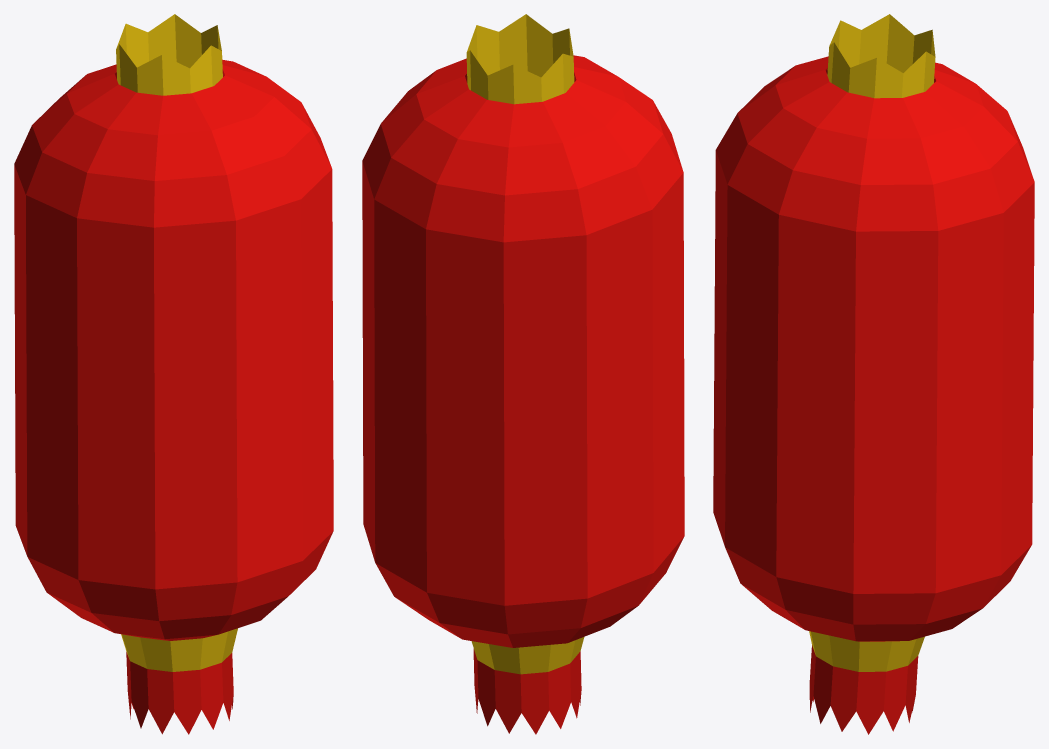
The model's file is SM_Lantern.fbx.
3 views of the same model, side by side, from view 1: azimuth 30°, elevation 25°; view 2: azimuth 150°, elevation 25°; view 3: azimuth 270°, elevation 25° (orthographic).
Visible parts, largest first — view 1: Object001; view 2: Object001; view 3: Object001.
Boxes of the visible parts, bbox=[...] form: Object001: bbox=[14, 14, 333, 734]; Object001: bbox=[362, 14, 684, 734]; Object001: bbox=[713, 14, 1034, 734].
Size of the model in its own units: 18.95 by 44.57 by 19.05.
